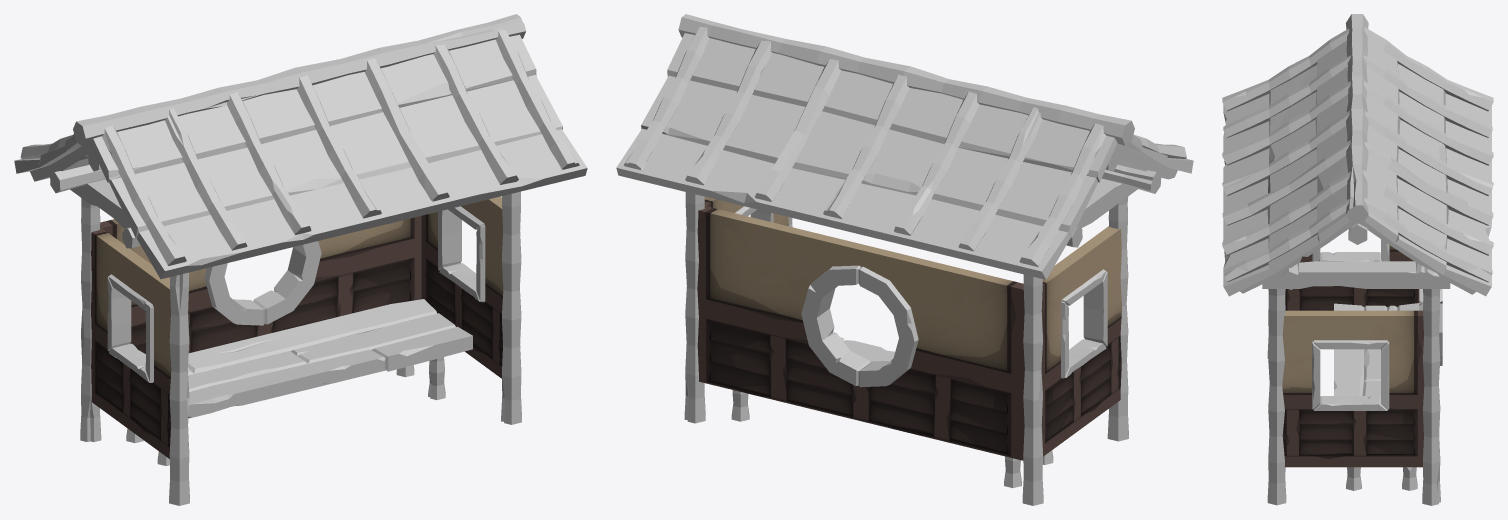
File: SM_Prop_Bench_01.fbx
3 renders of one model, left to right at view 1: azimuth 30°, elevation 25°; view 2: azimuth 150°, elevation 25°; view 3: azimuth 270°, elevation 25°, orthographic. The views are drawn at different scales.
Parts seen in each view (by area): view 1: SM_Prop_Bench_01; view 2: SM_Prop_Bench_01; view 3: SM_Prop_Bench_01.
Part boxes in pixels (x1,y1,x2,y2): SM_Prop_Bench_01: (14, 14, 587, 505); SM_Prop_Bench_01: (616, 14, 1193, 505); SM_Prop_Bench_01: (1222, 14, 1493, 505).
Bounding box in the file's own units: 349 × 271 × 209.
